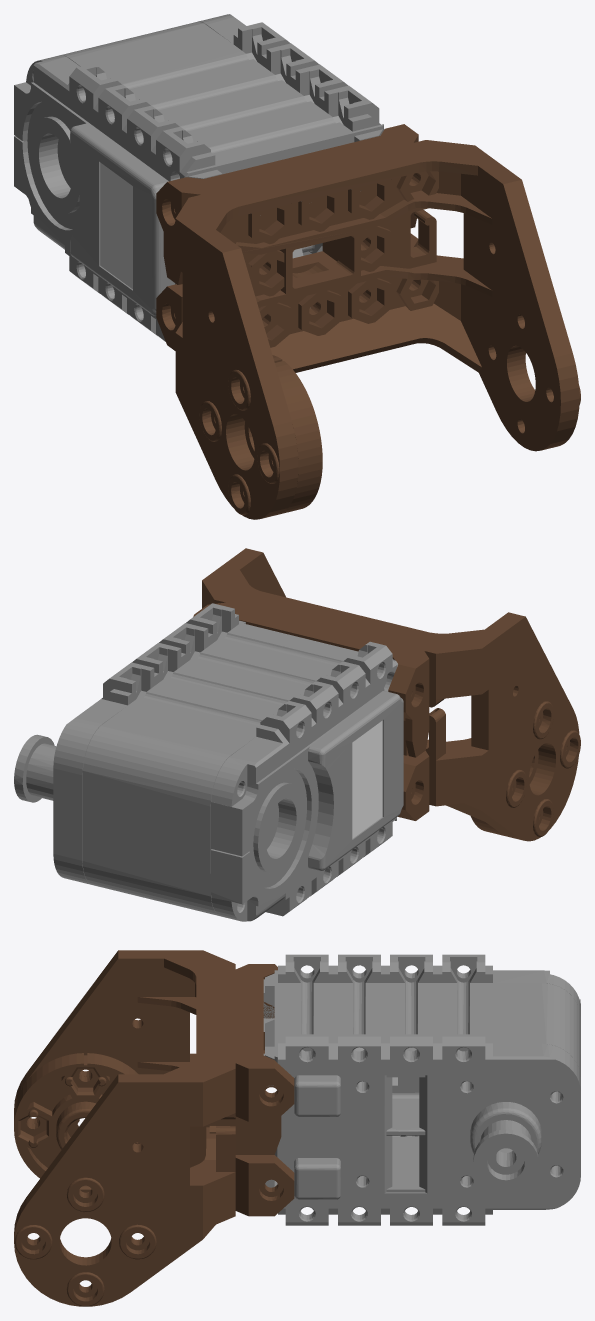
File: thign_l.fbx
The picture shows the model from 3 angles, top to bottom: view 1: azimuth 30°, elevation 25°; view 2: azimuth 150°, elevation 25°; view 3: azimuth 270°, elevation 25°; orthographic projection. The views are drawn at different scales.
Visible parts, largest first — view 1: thigh_l; view 2: thigh_l; view 3: thigh_l.
Boxes of the visible parts, x1,y1,x2,y2 form: thigh_l: (14, 14, 580, 519); thigh_l: (14, 548, 580, 921); thigh_l: (14, 950, 580, 1306).
Bounding box in the file's own units: 5.09 × 4.15 × 8.7.
